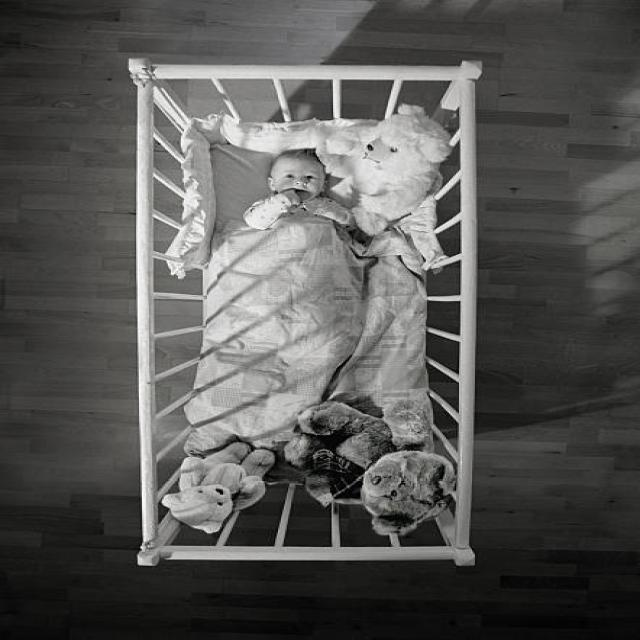crib: (126, 55, 482, 568)
